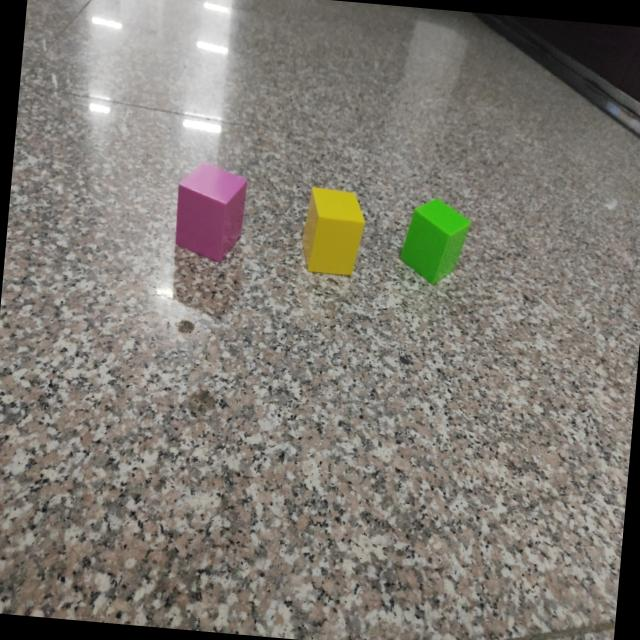green: (399, 200, 470, 285)
pink: (174, 164, 248, 266)
yellow: (306, 188, 365, 278)
